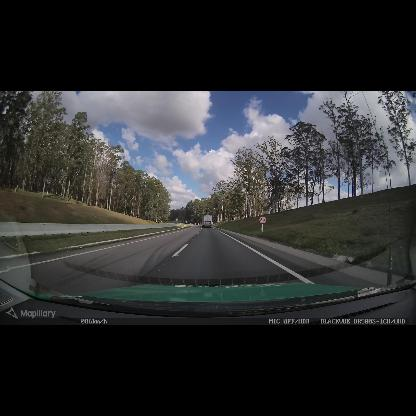R-19: (258, 216, 267, 224)
